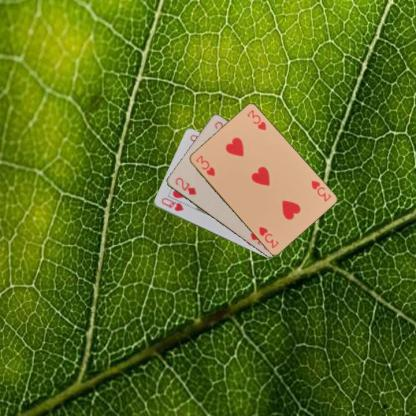2d: (172, 175, 198, 197)
3h: (308, 178, 332, 203), (193, 152, 216, 178)
Qh: (158, 195, 185, 213)
